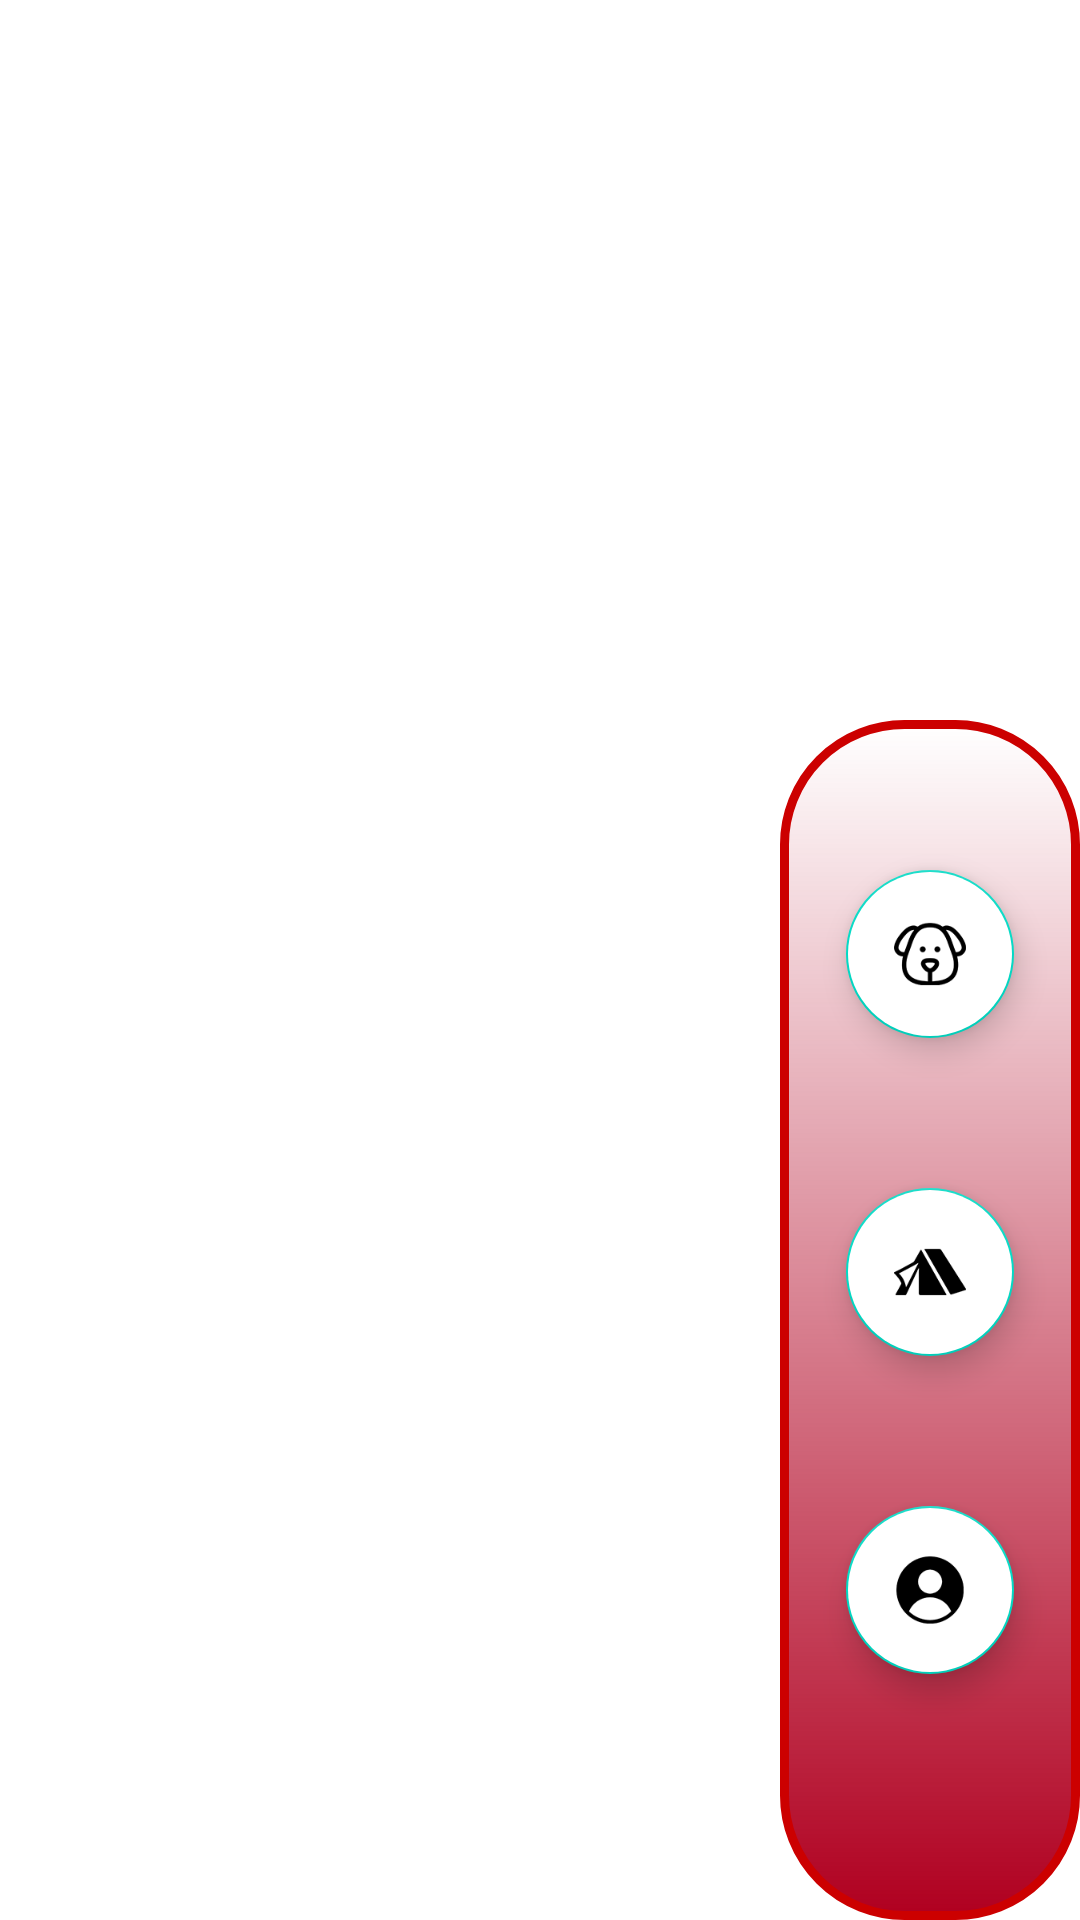

Screen size 1080px x 1920px. Icon name, then its center in pixels as point (x, y):
camp: point (930, 1272)
dog: point (930, 954)
user: point (930, 1590)
